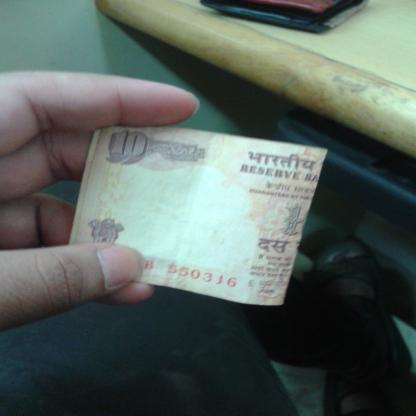Old10Front: (69, 124, 328, 307)
